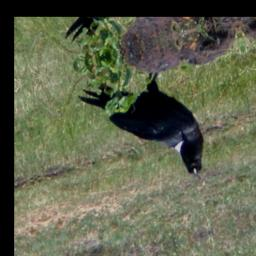Crow: (74, 53, 212, 206)
